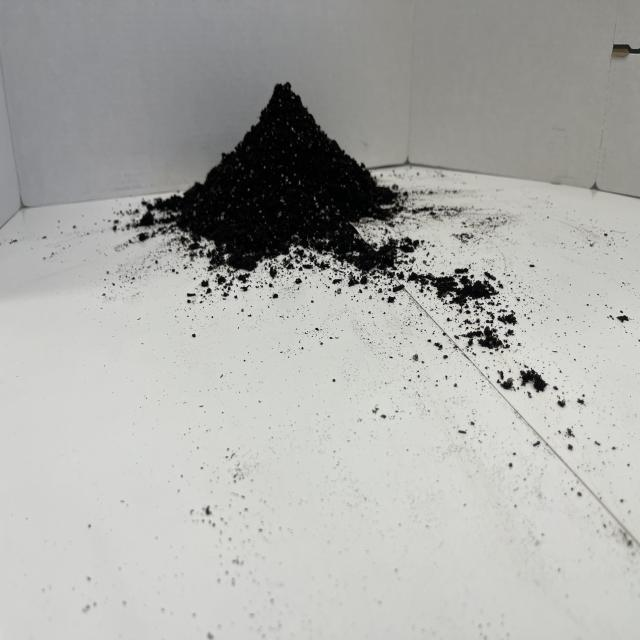soil: (137, 78, 407, 275)
